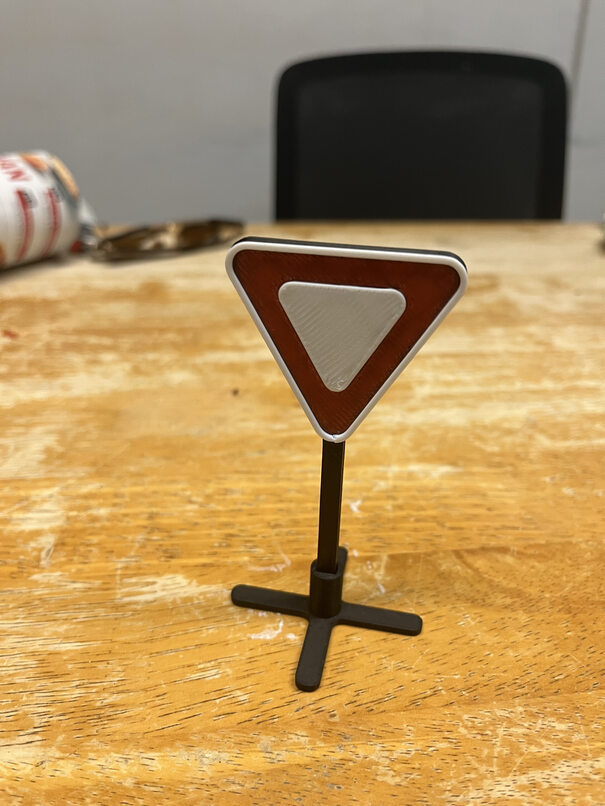sign_yield: (225, 237, 473, 445)
